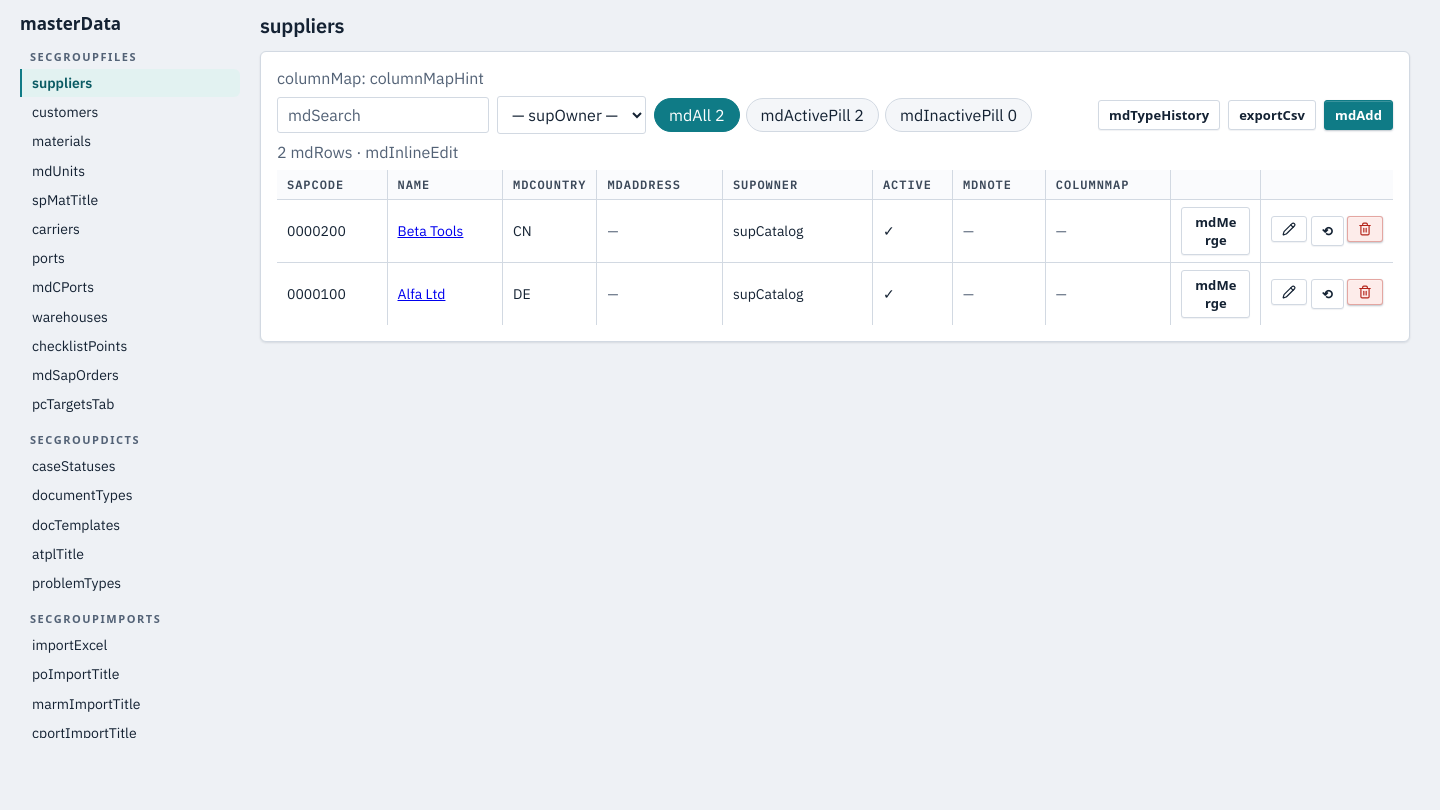
MasterDataPage › dostawcy: renderuje wiersze, filtruje po kodzie SAP, sortuje po kliku nagłówka
The width and height of the screenshot is (1440, 810).
Check: the link "Beta Tools" is shown, box [398,222,463,240]
Check: the link "Alfa Ltd" is shown, box [398,285,446,303]
Note: sort po nazwie (klik nagłówka "name")
Click the button "name". click: click(414, 184)
box: [398,177,430,192]
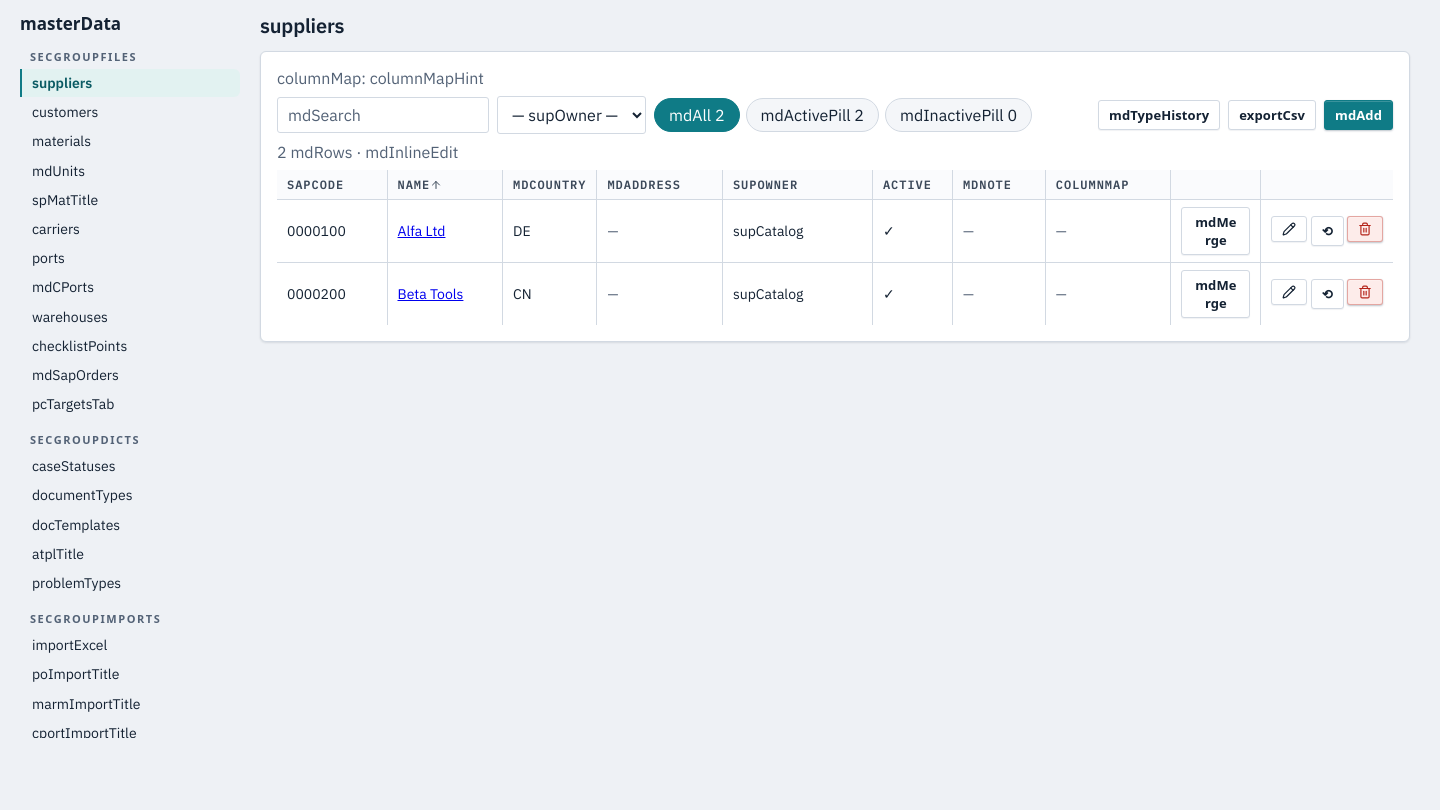
Check: the row "0000100 Alfa Ltd DE — supCatalog ✓ — — mdMerge ⟲" is shown, box [277,200,1393,262]
Note: wyszukiwarka łapie kod SAP
Type "0000200" into the field with placeholder "mdSearch". click: (383, 115)
box: [277,97,489,133]
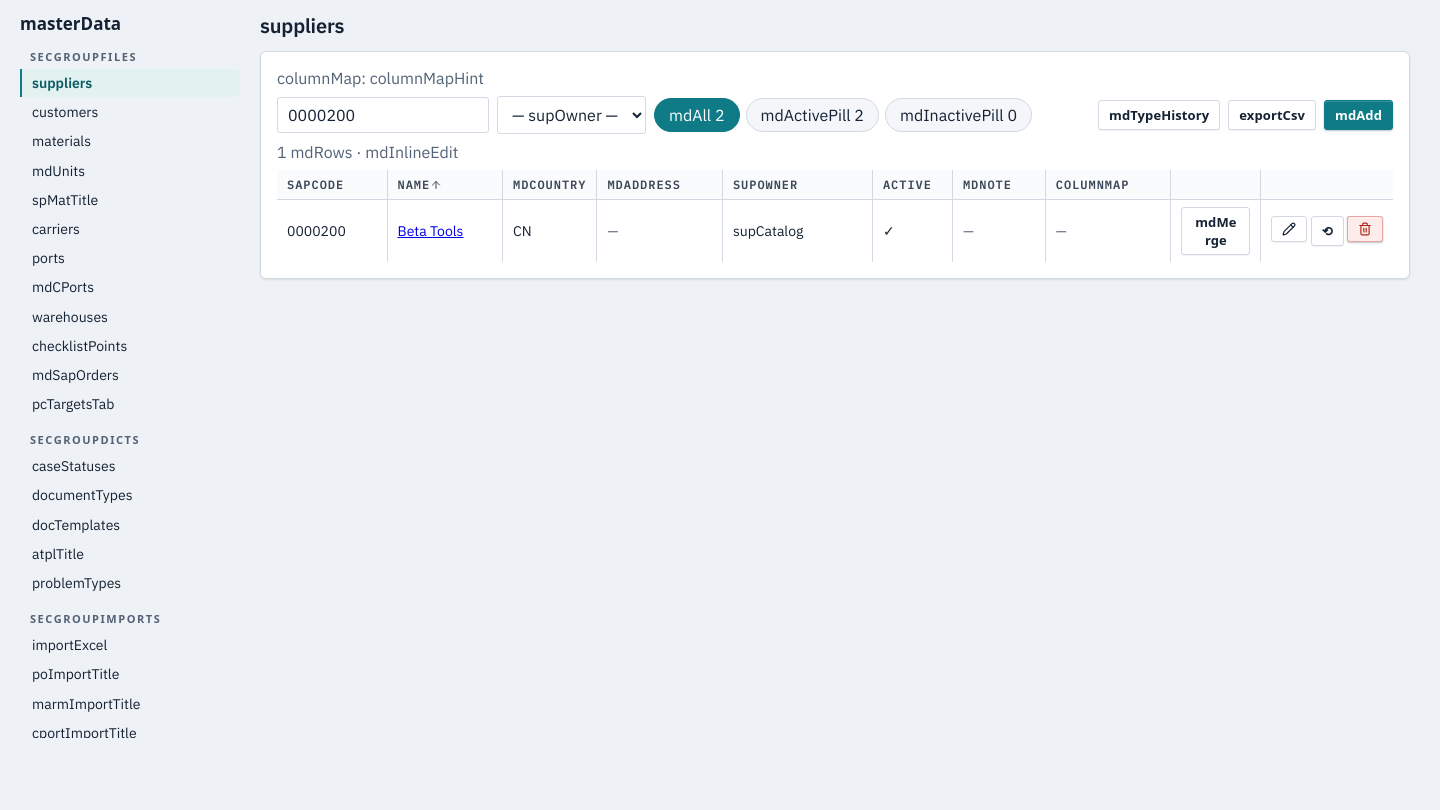
Check: the link "Beta Tools" is shown, box [398,222,463,240]
Check: the link "Alfa Ltd" is gone
Check: the text "1 mdRows · mdInlineEdit" is shown, box [277,142,458,162]
